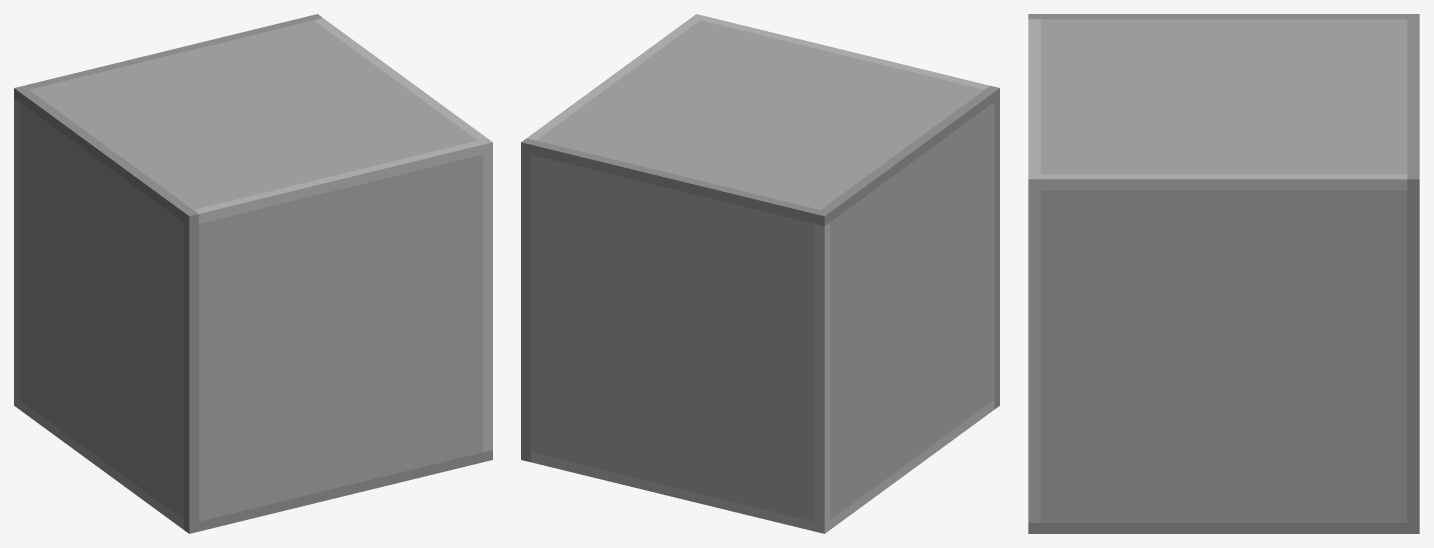
File: Wall.obj
3 views of the same model, side by side, from view 1: azimuth 30°, elevation 25°; view 2: azimuth 150°, elevation 25°; view 3: azimuth 270°, elevation 25° (orthographic). The views are drawn at different scales.
Bounding box in the file's own units: 3.2 × 3.2 × 3.2.
1 material, 1 textured.
